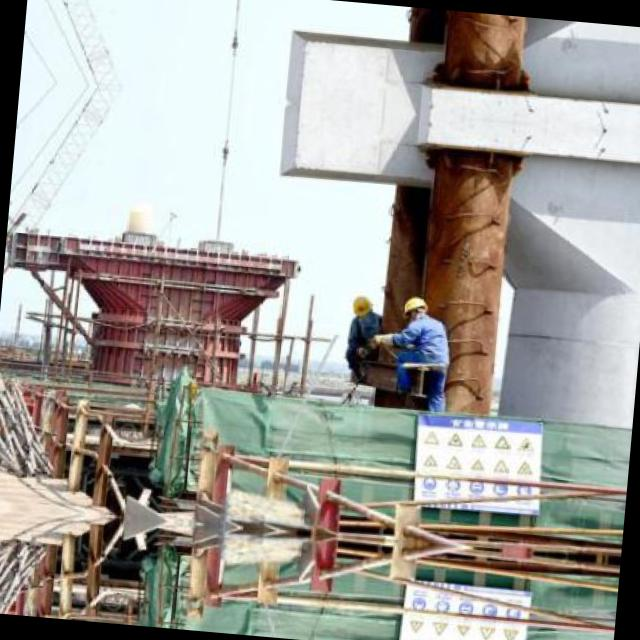helmet: (399, 289, 429, 324), (350, 291, 372, 316)
